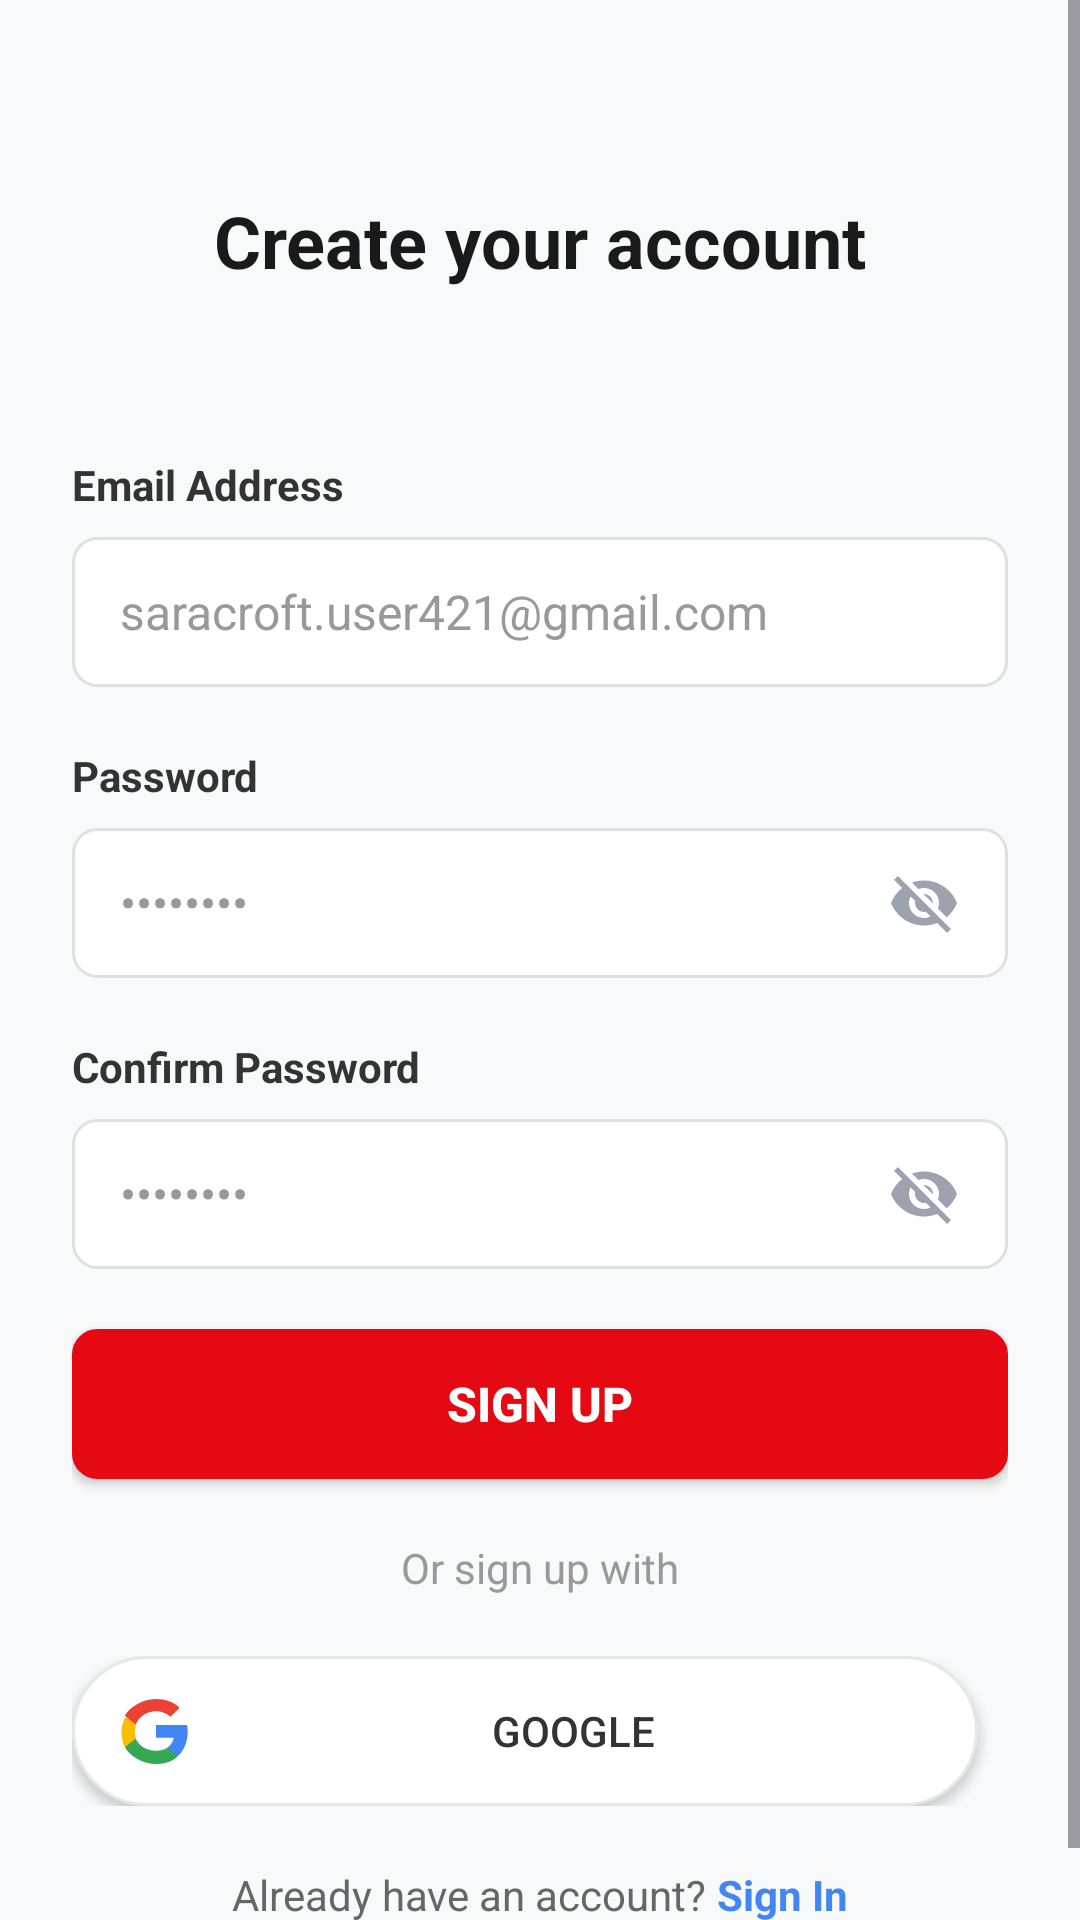

Icons on this 1080 x 1920 Android screen, each with its box as BBox(x1, y1, x2, y2):
Toggle password visibility: BBox(891, 876, 957, 933), BBox(891, 1167, 957, 1224)
